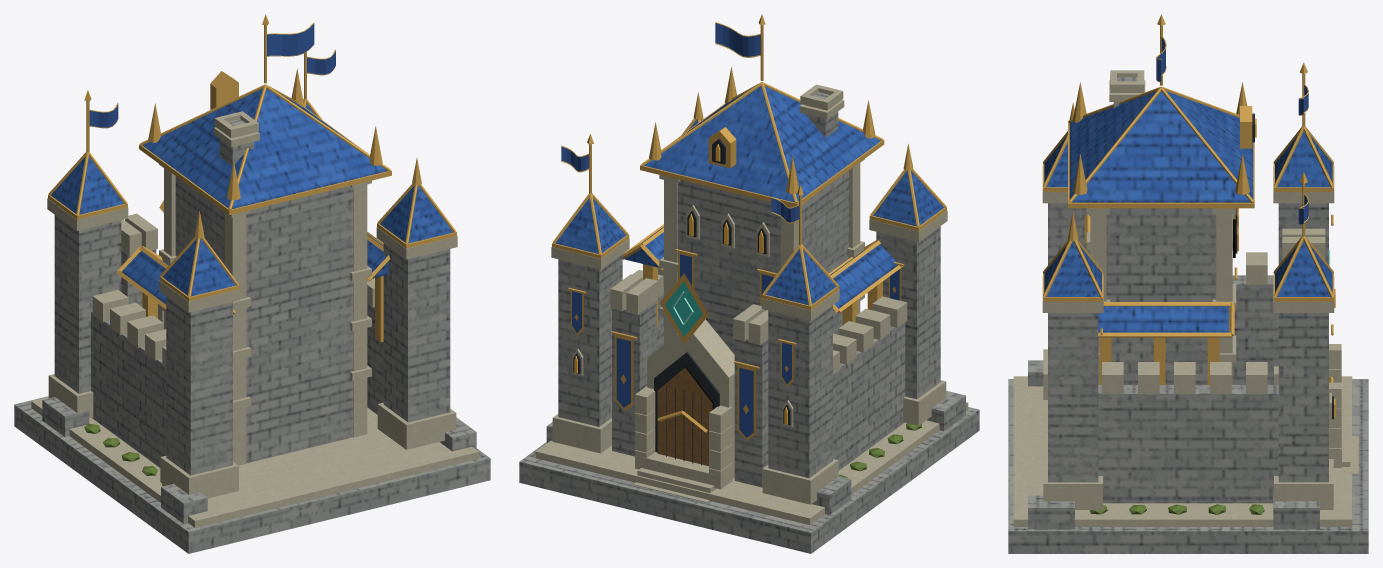
Rendered from Keep_2.fbx.
3 renders of one model, left to right at view 1: azimuth 30°, elevation 25°; view 2: azimuth 150°, elevation 25°; view 3: azimuth 270°, elevation 25°, orthographic. The views are drawn at different scales.
Parts seen in each view (by area): view 1: BuildingBody, FlagCloth_00; view 2: BuildingBody, FlagCloth_00; view 3: BuildingBody.
Boxes of the visible parts, x1,y1,x2,y2 form: BuildingBody: [14, 14, 490, 553]; FlagCloth_00: [267, 22, 314, 56]; BuildingBody: [519, 14, 979, 553]; FlagCloth_00: [715, 22, 760, 57]; BuildingBody: [1008, 14, 1368, 553].
Bounding box in the file's own units: 1 × 1.42 × 1.
1 material, 1 textured.
